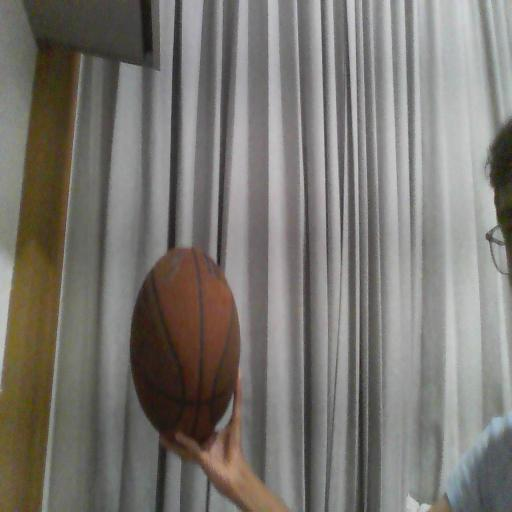basketball: (130, 248, 239, 443)
